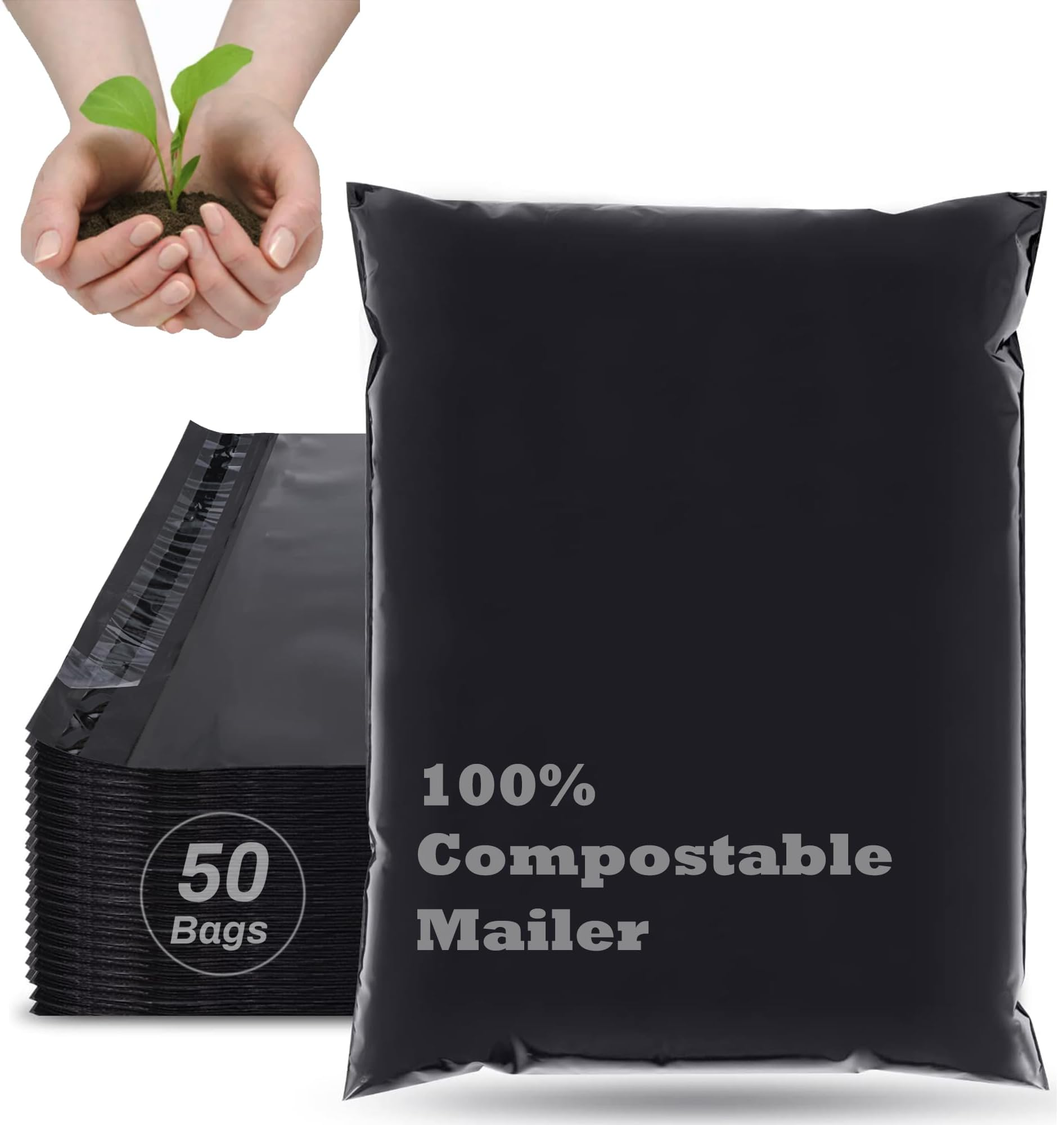Parcel: (353, 190, 1043, 1075)
